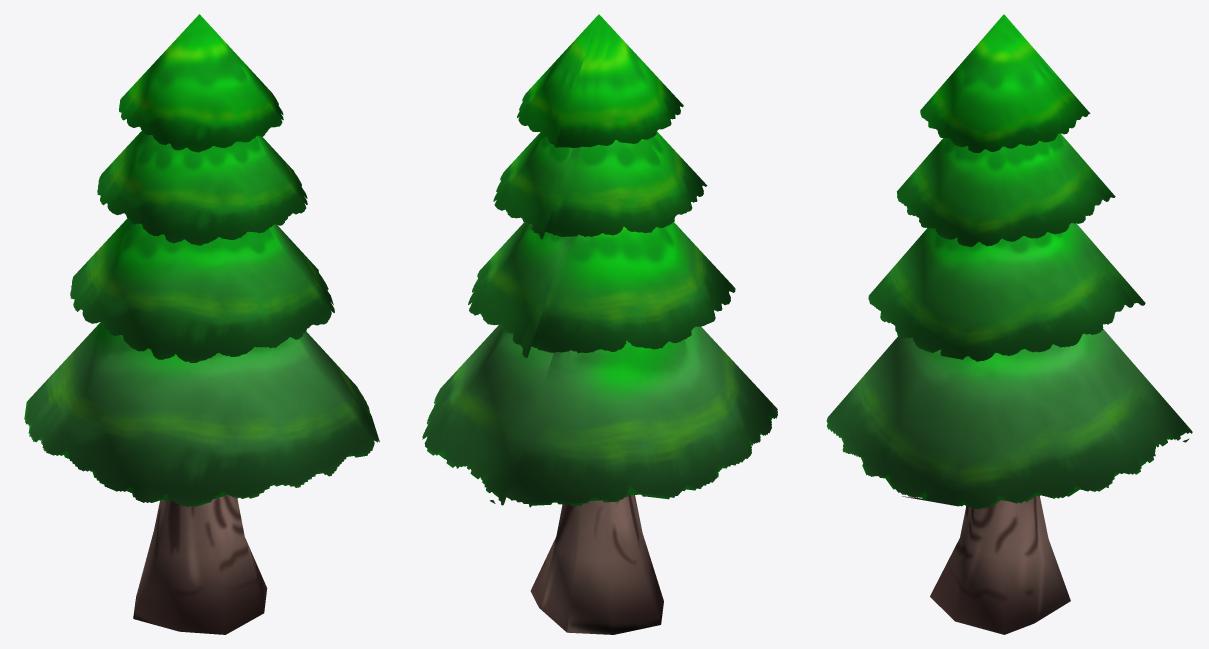
The model's file is Tree3.fbx.
The picture shows the model from 3 angles, left to right: view 1: azimuth 30°, elevation 25°; view 2: azimuth 150°, elevation 25°; view 3: azimuth 270°, elevation 25°; orthographic projection.
Parts seen in each view (by area): view 1: Tree; view 2: Tree; view 3: Tree.
Boxes of the visible parts, bbox=[...] form: Tree: bbox=[24, 14, 379, 634]; Tree: bbox=[422, 14, 777, 634]; Tree: bbox=[826, 14, 1192, 634].
Size of the model in its own units: 198 by 336 by 198.
Materials: 1 (1 with a texture image).
